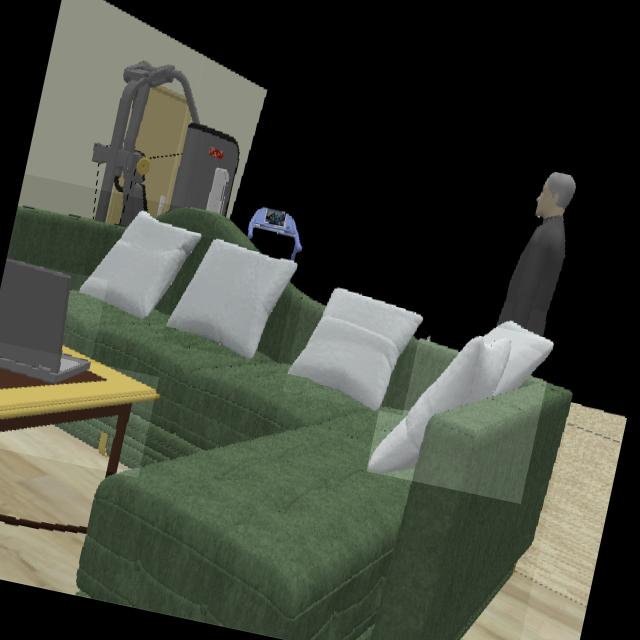laptop: (0, 259, 90, 388)
person: (495, 173, 576, 337)
pillow: (368, 322, 553, 474), (286, 289, 422, 410), (164, 240, 297, 360), (78, 212, 201, 318)
sofa: (6, 208, 572, 640)
table: (0, 362, 155, 471)
